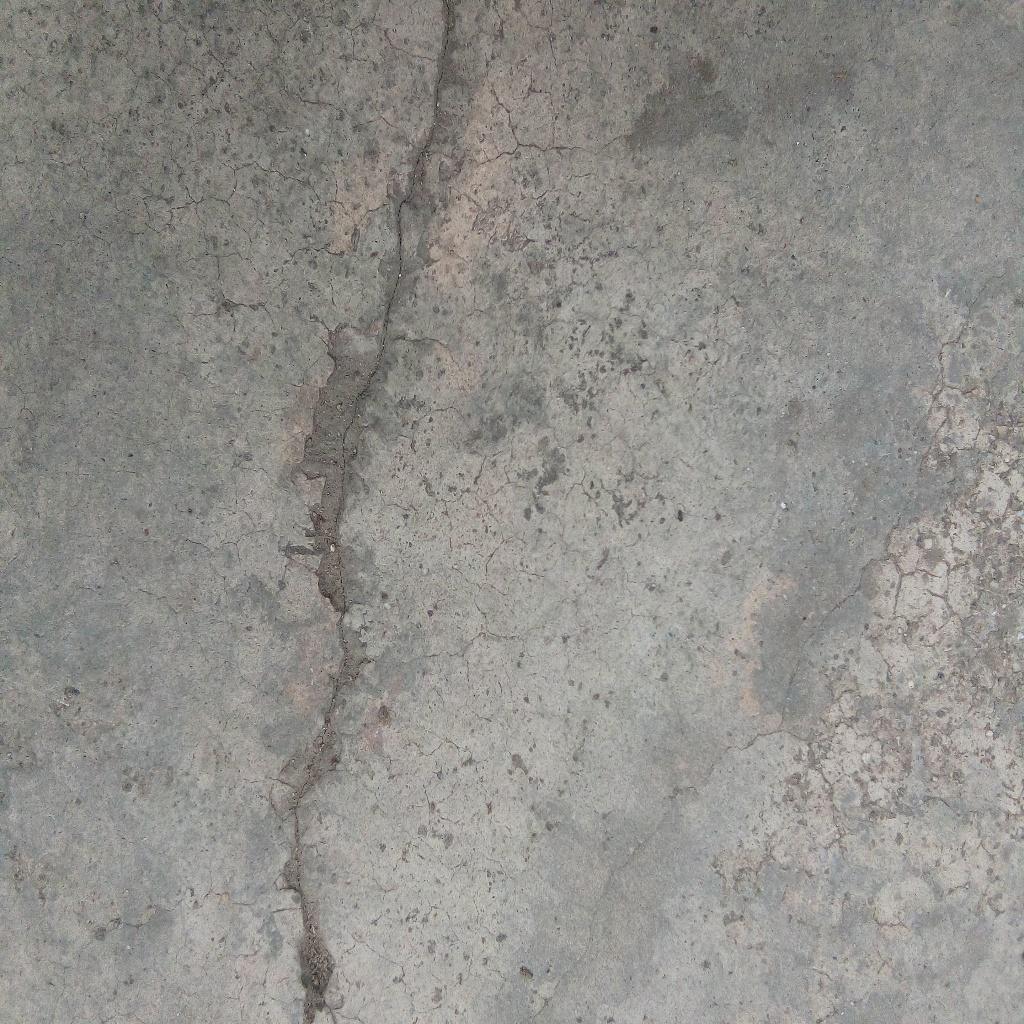Crack: (286, 1, 455, 1024)
